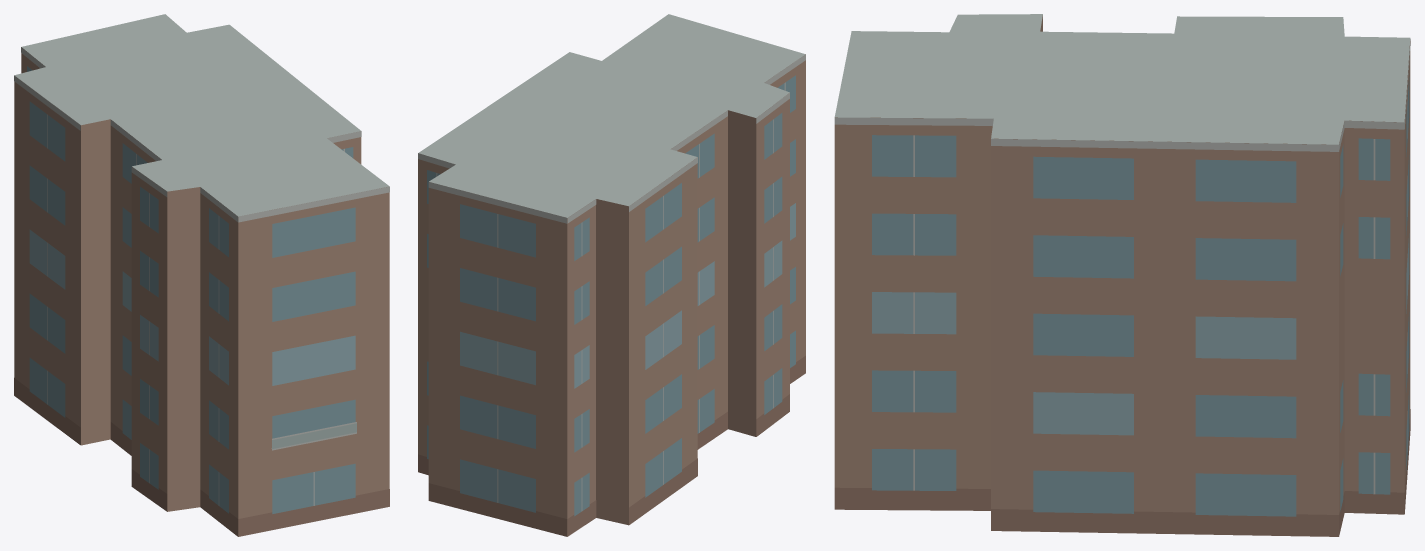
The model's file is survey-upis-32565089.glb.
3 renders of one model, left to right at view 1: azimuth 30°, elevation 25°; view 2: azimuth 150°, elevation 25°; view 3: azimuth 270°, elevation 25°, orthographic. The views are drawn at different scales.
Parts seen in each view (by area): view 1: survey-upis-32565089.tmp; view 2: survey-upis-32565089.tmp; view 3: survey-upis-32565089.tmp.
Part boxes in pixels (box(x1,y1,x2,y2)): survey-upis-32565089.tmp: box(14, 14, 389, 536); survey-upis-32565089.tmp: box(418, 14, 805, 536); survey-upis-32565089.tmp: box(834, 14, 1410, 536).
Size of the model in its own units: 9.37 by 13.1 by 17.44.
